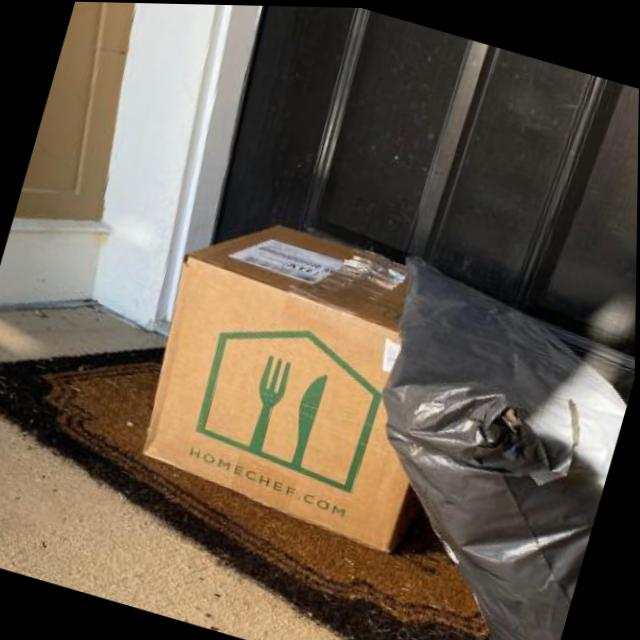box: (96, 161, 493, 571)
